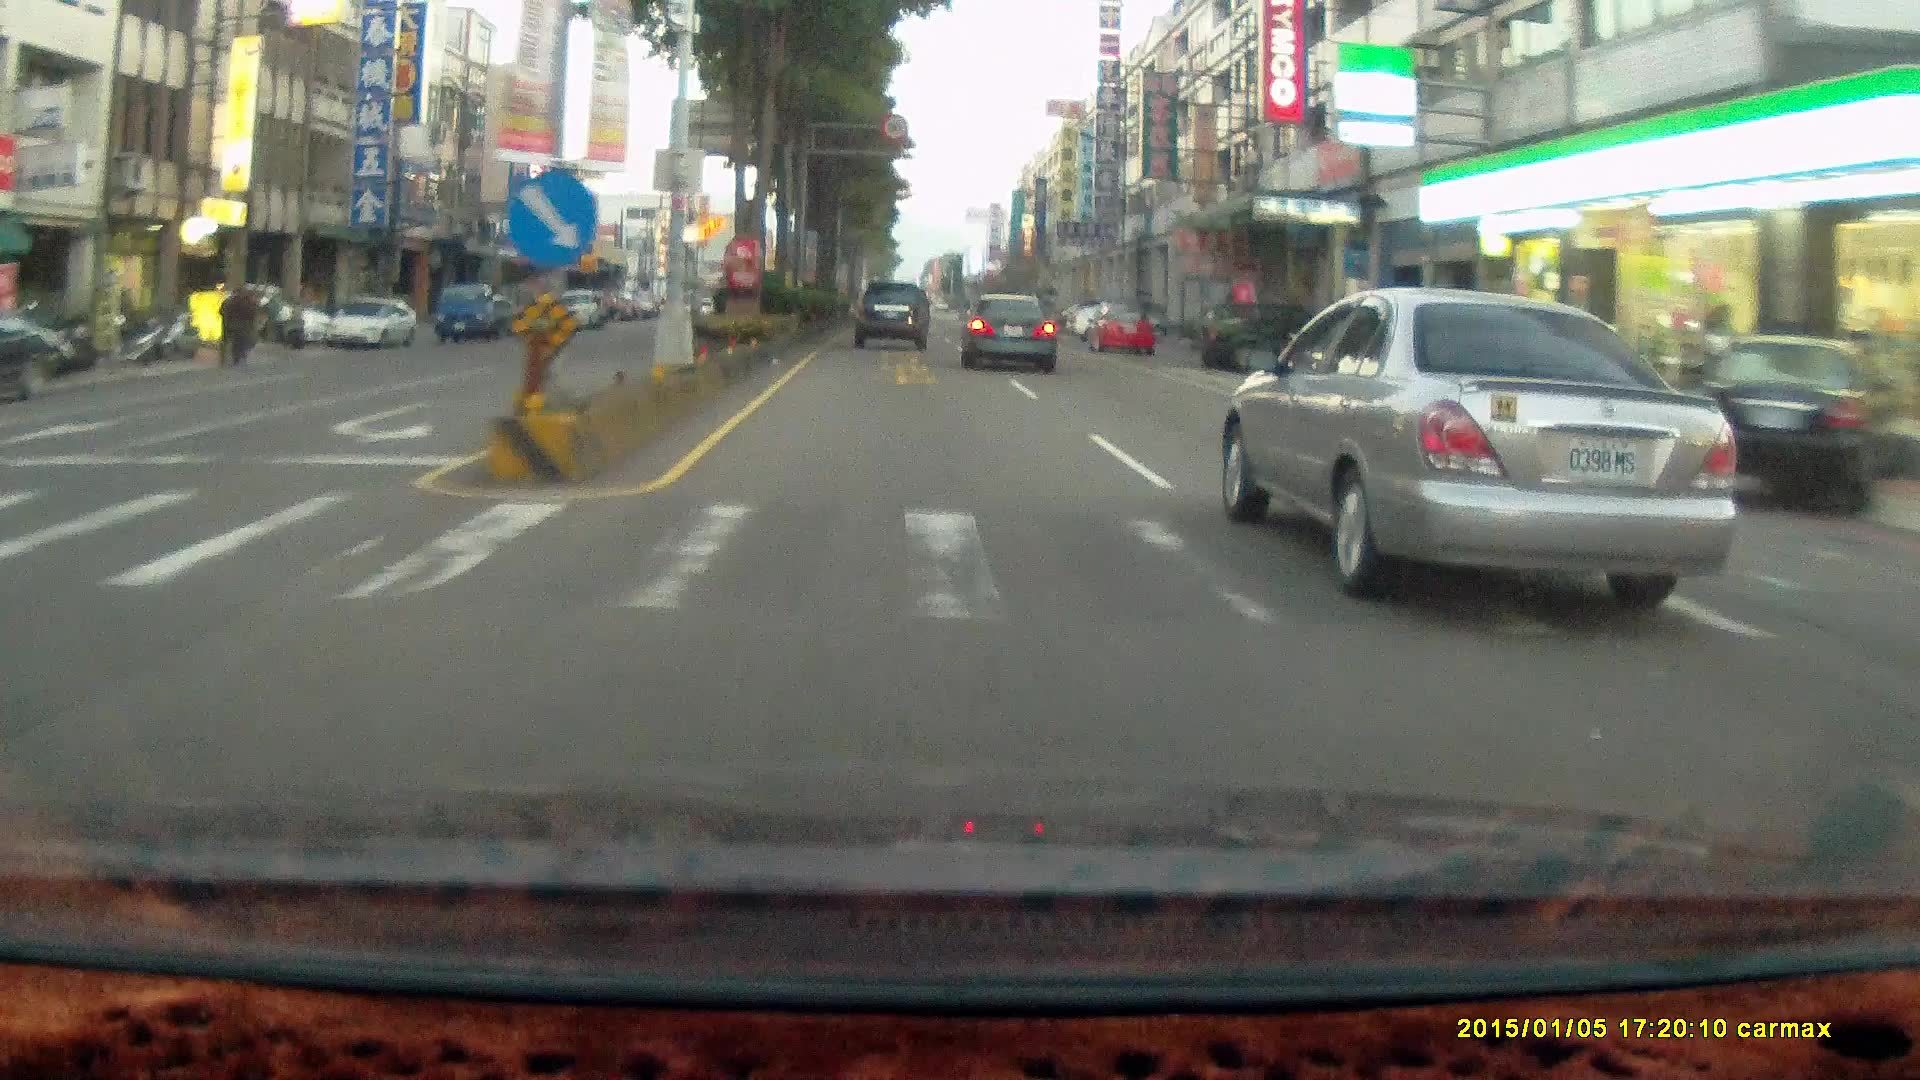pedestrian: (227, 283, 258, 366), (224, 282, 254, 365)
vehicle: (1227, 286, 1738, 603), (1696, 332, 1885, 511), (1711, 333, 1878, 525), (1324, 316, 1466, 422), (1206, 309, 1346, 380), (1196, 299, 1335, 369), (962, 294, 1060, 375), (959, 289, 1056, 368), (209, 282, 330, 346), (437, 287, 529, 353), (853, 283, 932, 355), (320, 295, 422, 351), (853, 279, 930, 349), (324, 295, 417, 345), (434, 282, 511, 342), (0, 316, 55, 399), (1088, 303, 1158, 360), (1082, 302, 1154, 355), (554, 288, 605, 330)
